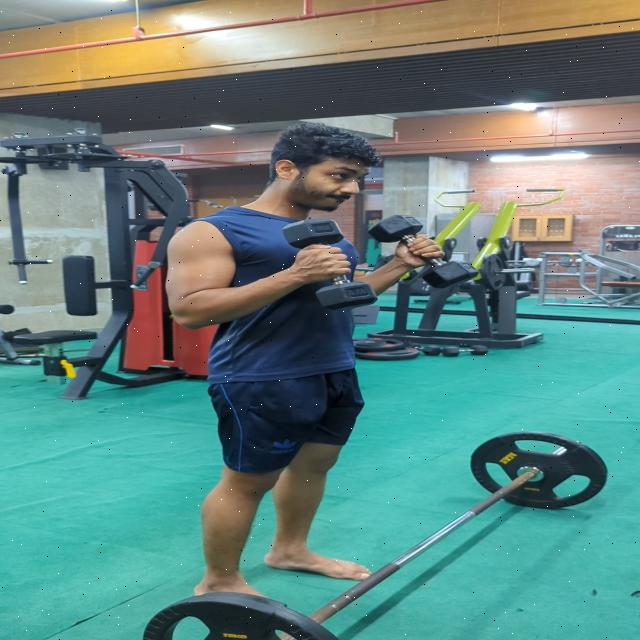Normal_DumbbellBicepCurls: (161, 118, 472, 613)
